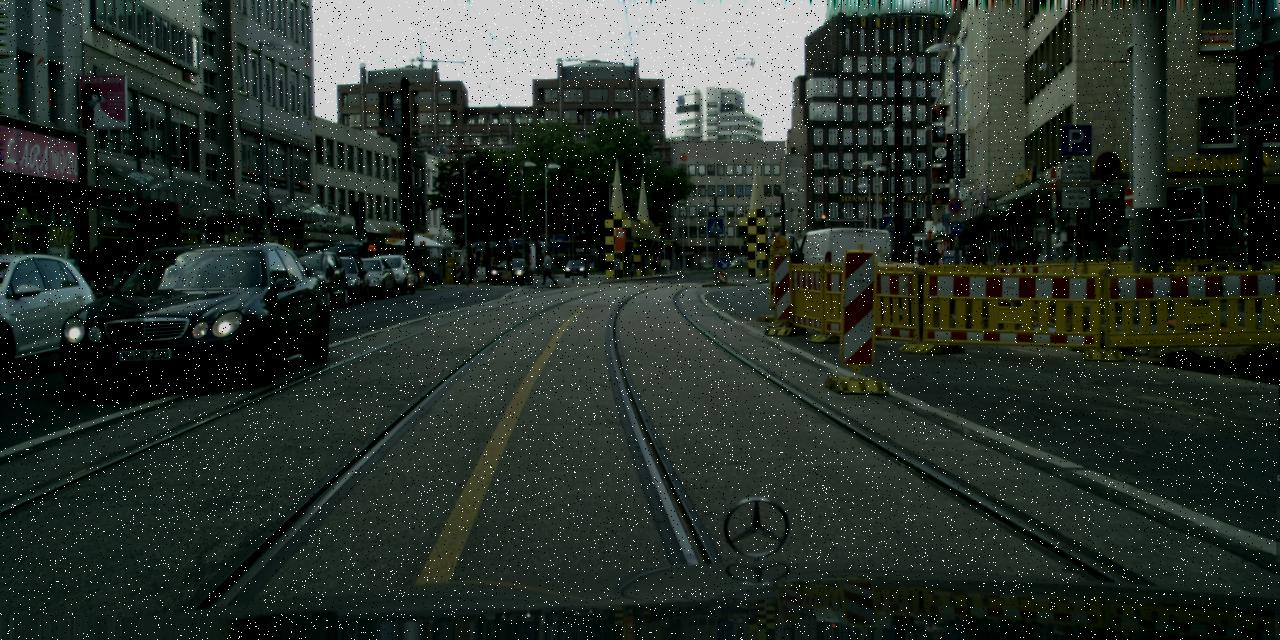ped: (92, 238, 122, 313), (1021, 239, 1037, 280), (998, 238, 1014, 278), (968, 243, 982, 277), (540, 250, 554, 284), (501, 254, 514, 285), (928, 246, 938, 273), (916, 248, 926, 274), (467, 254, 477, 278), (962, 248, 972, 272), (414, 258, 423, 282)
